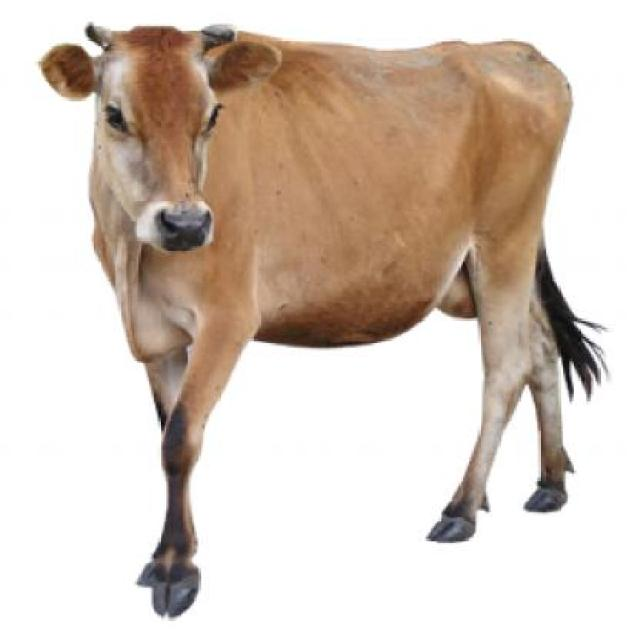Cow: (30, 25, 612, 620)
